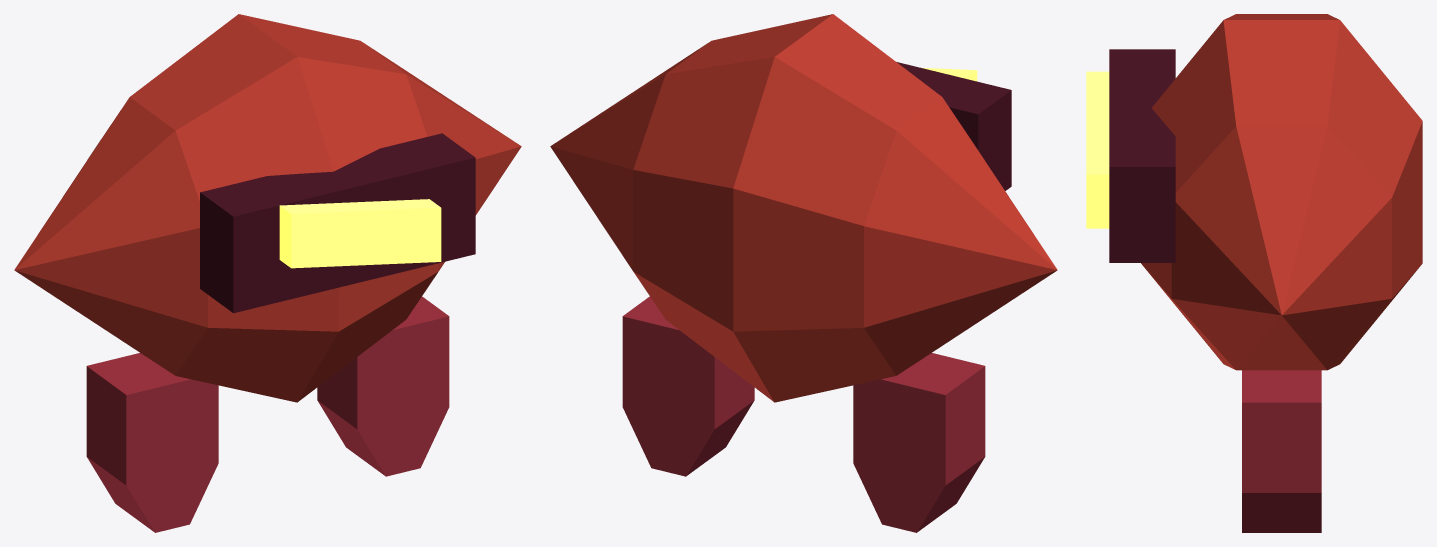
File: mini.glb
The picture shows the model from 3 angles, left to right: view 1: azimuth 30°, elevation 25°; view 2: azimuth 150°, elevation 25°; view 3: azimuth 270°, elevation 25°; orthographic projection.
Visible parts, largest first — view 1: body, leg_0, leg_1, eye; view 2: body, leg_0, leg_1; view 3: body, leg_1, eye.
Boxes of the visible parts, box(x1,y1,x2,y2) form: body: box(14, 14, 521, 402); leg_0: box(86, 353, 218, 532); leg_1: box(317, 296, 449, 476); eye: box(279, 199, 441, 268); body: box(550, 14, 1057, 402); leg_0: box(853, 353, 985, 532); leg_1: box(622, 296, 754, 476); body: box(1109, 14, 1422, 370); leg_1: box(1242, 370, 1321, 532); eye: box(1086, 71, 1109, 228).
Bounding box in the file's own units: 8.8 × 7.46 × 5.07.
